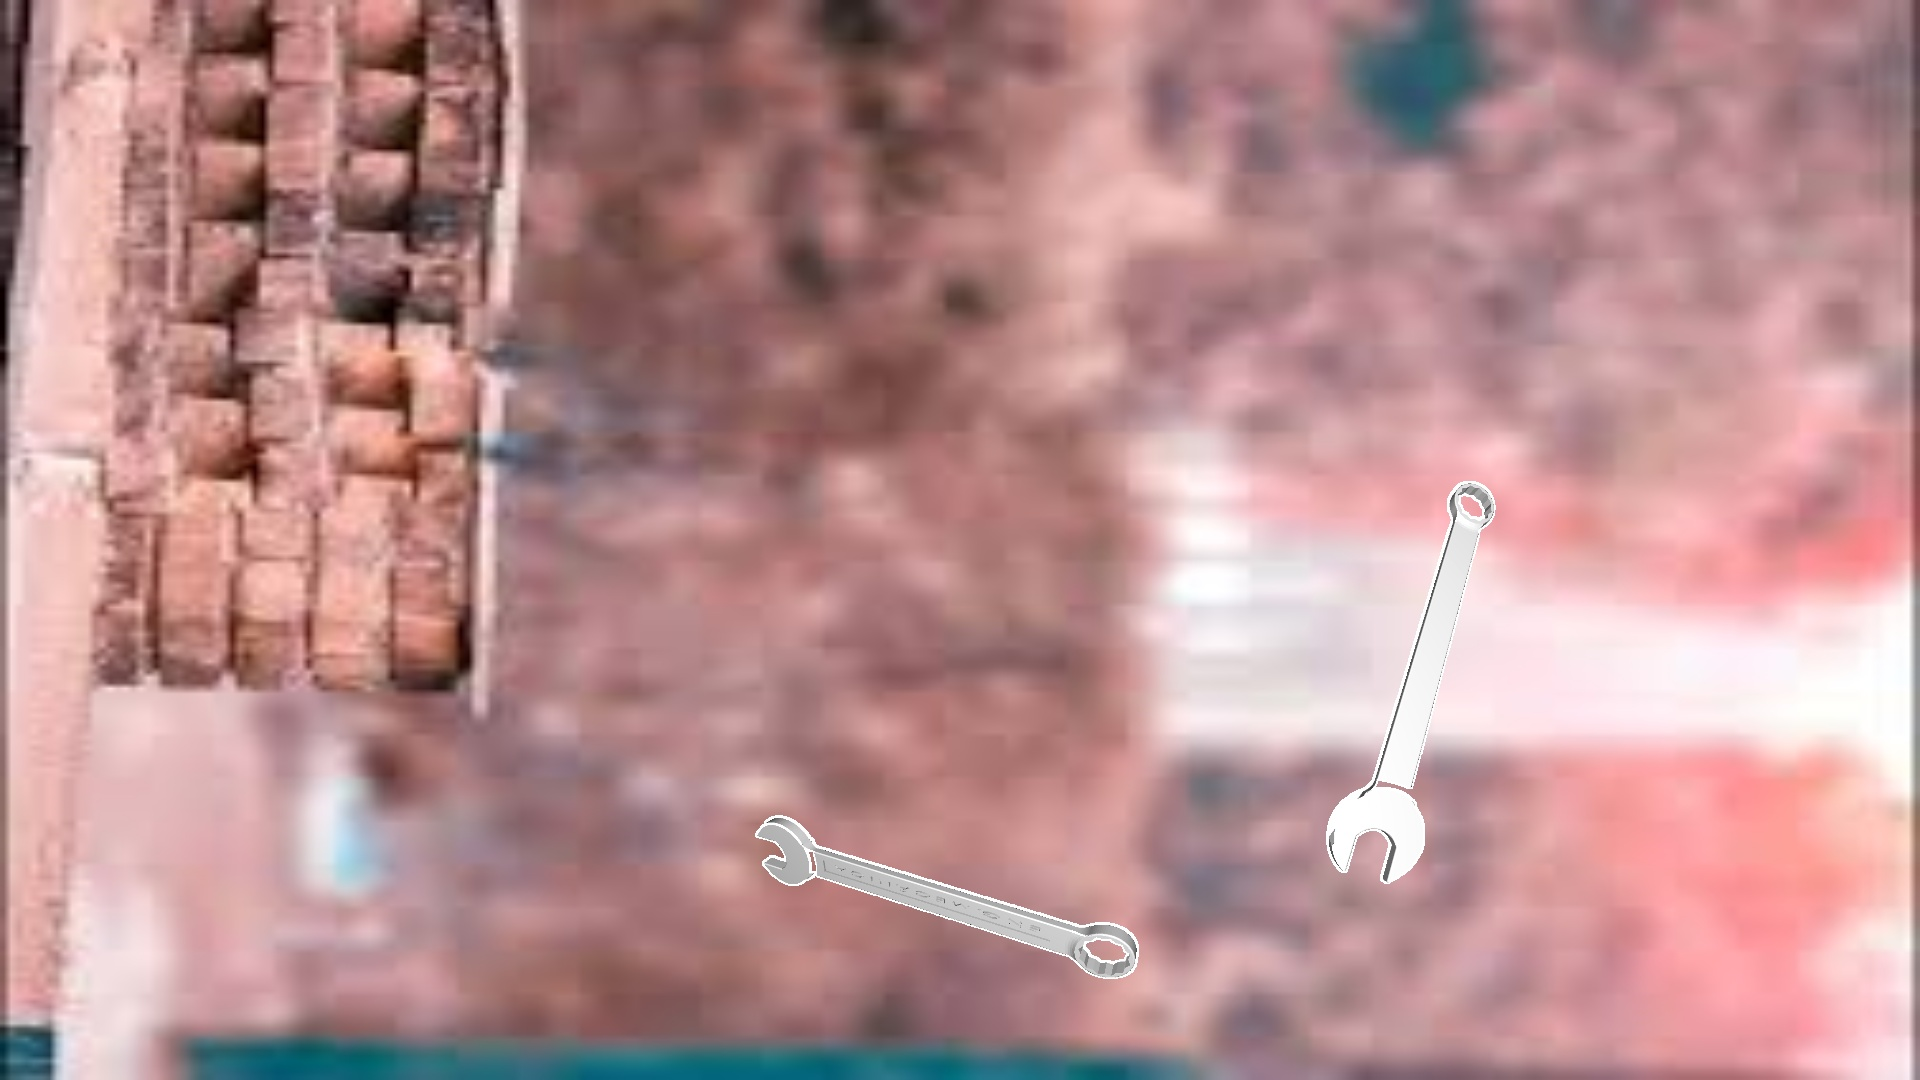Mixed Key: (1326, 481, 1495, 883), (755, 815, 1138, 978)
